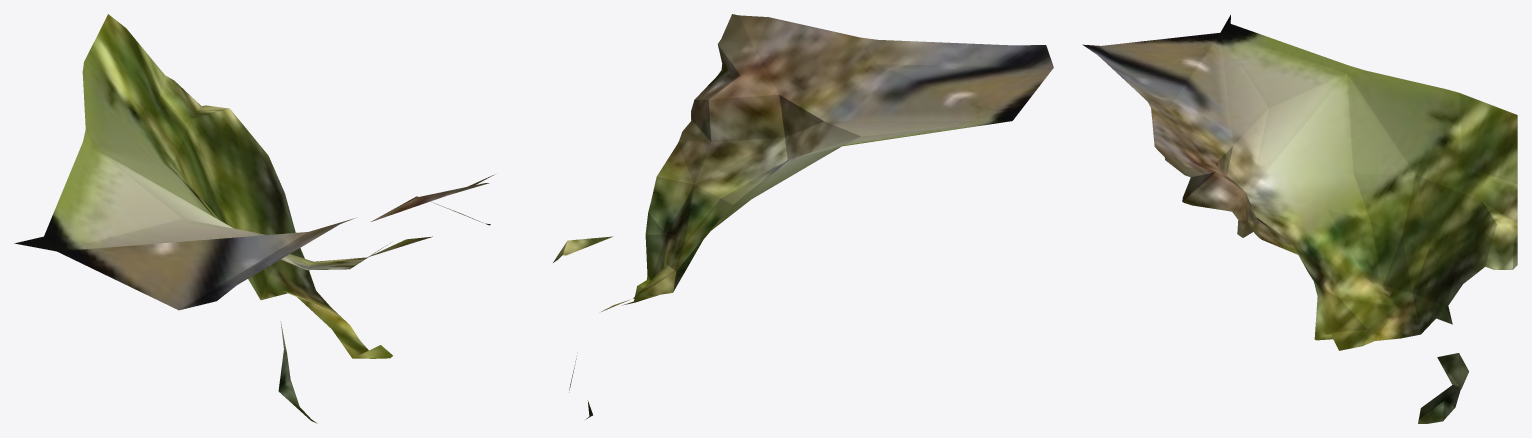
3 renders of one model, left to right at view 1: azimuth 30°, elevation 25°; view 2: azimuth 150°, elevation 25°; view 3: azimuth 270°, elevation 25°, orthographic. The views are drawn at different scales.
Size of the model in its own units: 1.96 by 1.65 by 2.47.
1 material, 1 textured.
